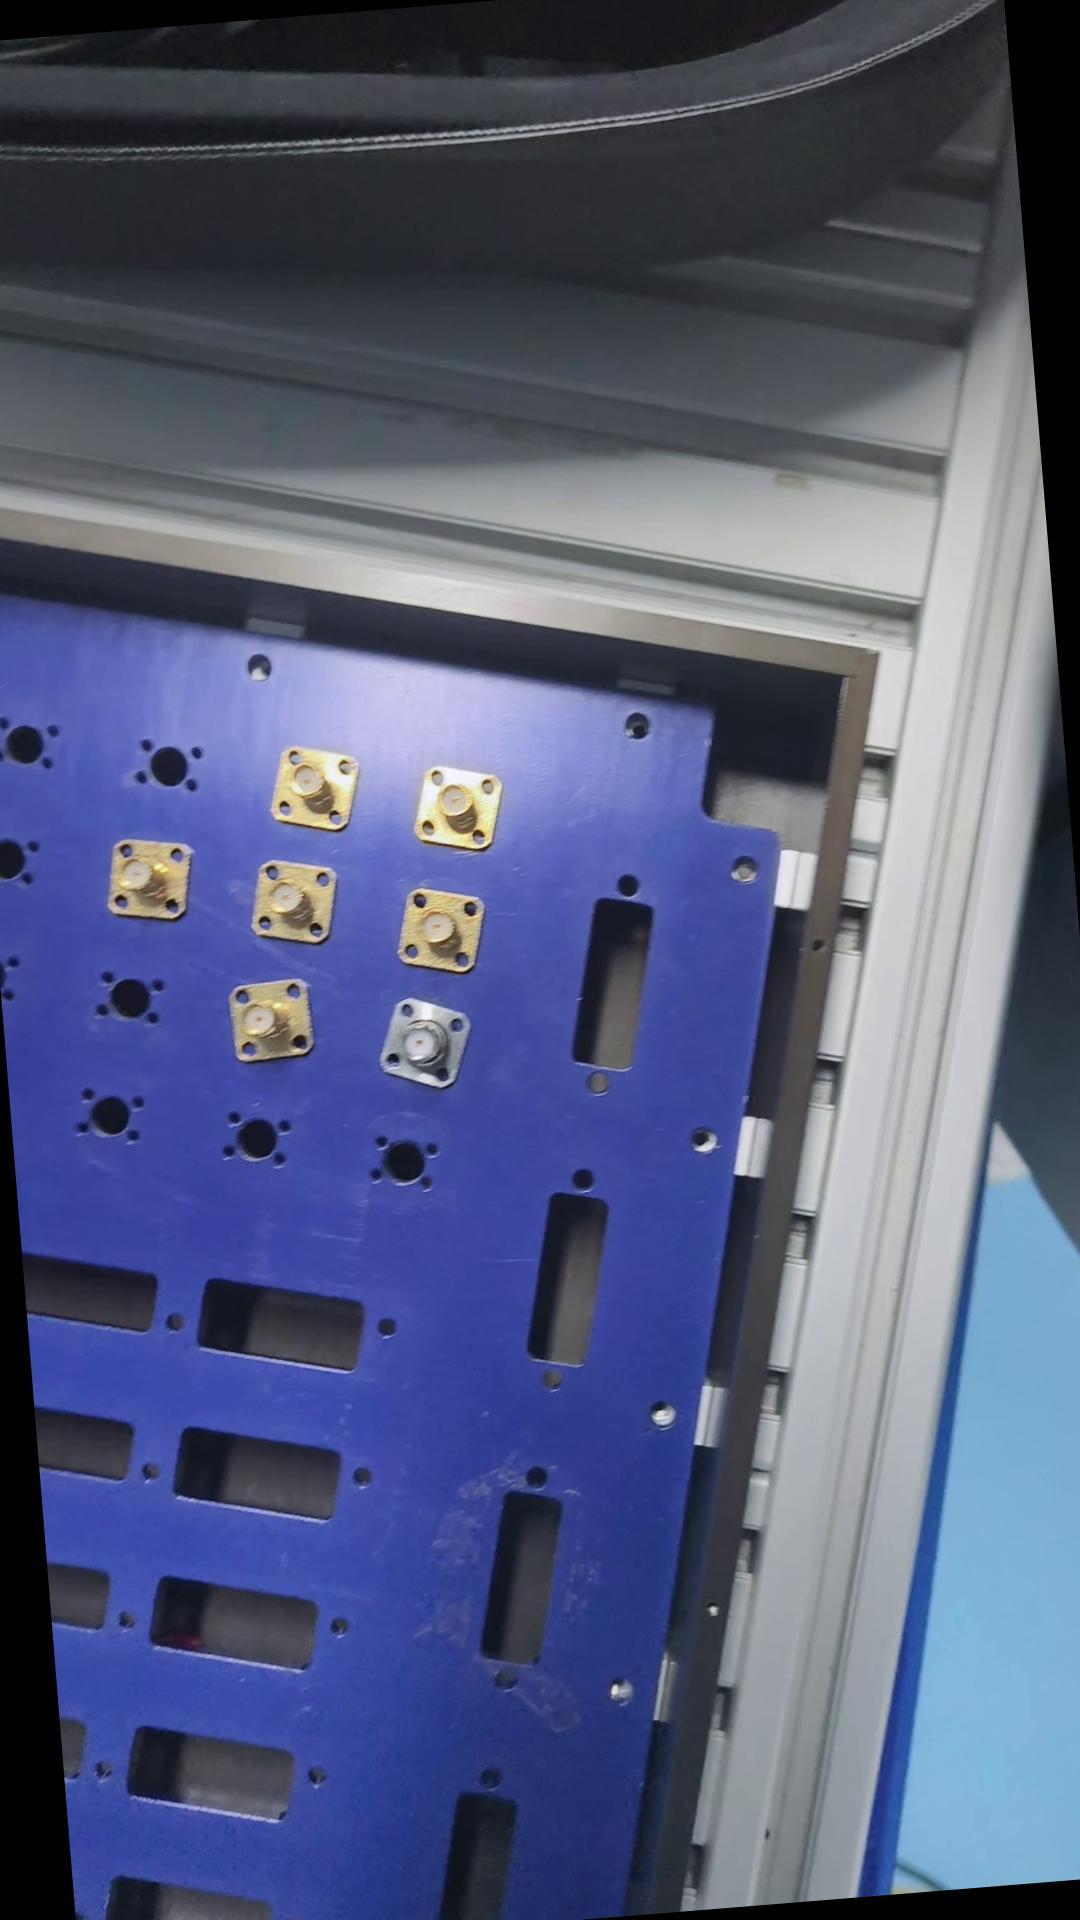SMA: (400, 760, 510, 858), (219, 968, 318, 1073), (373, 996, 475, 1095), (239, 852, 339, 951), (262, 740, 359, 837), (389, 886, 491, 978), (99, 833, 196, 924)
